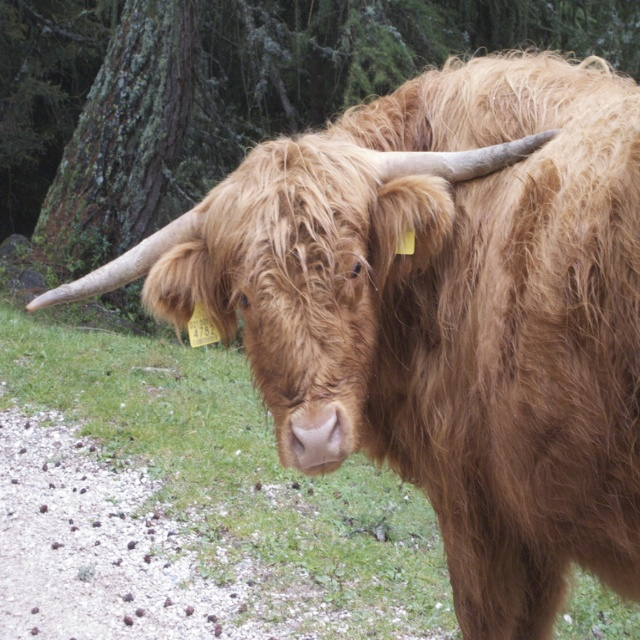Cattle: (26, 36, 640, 640)
